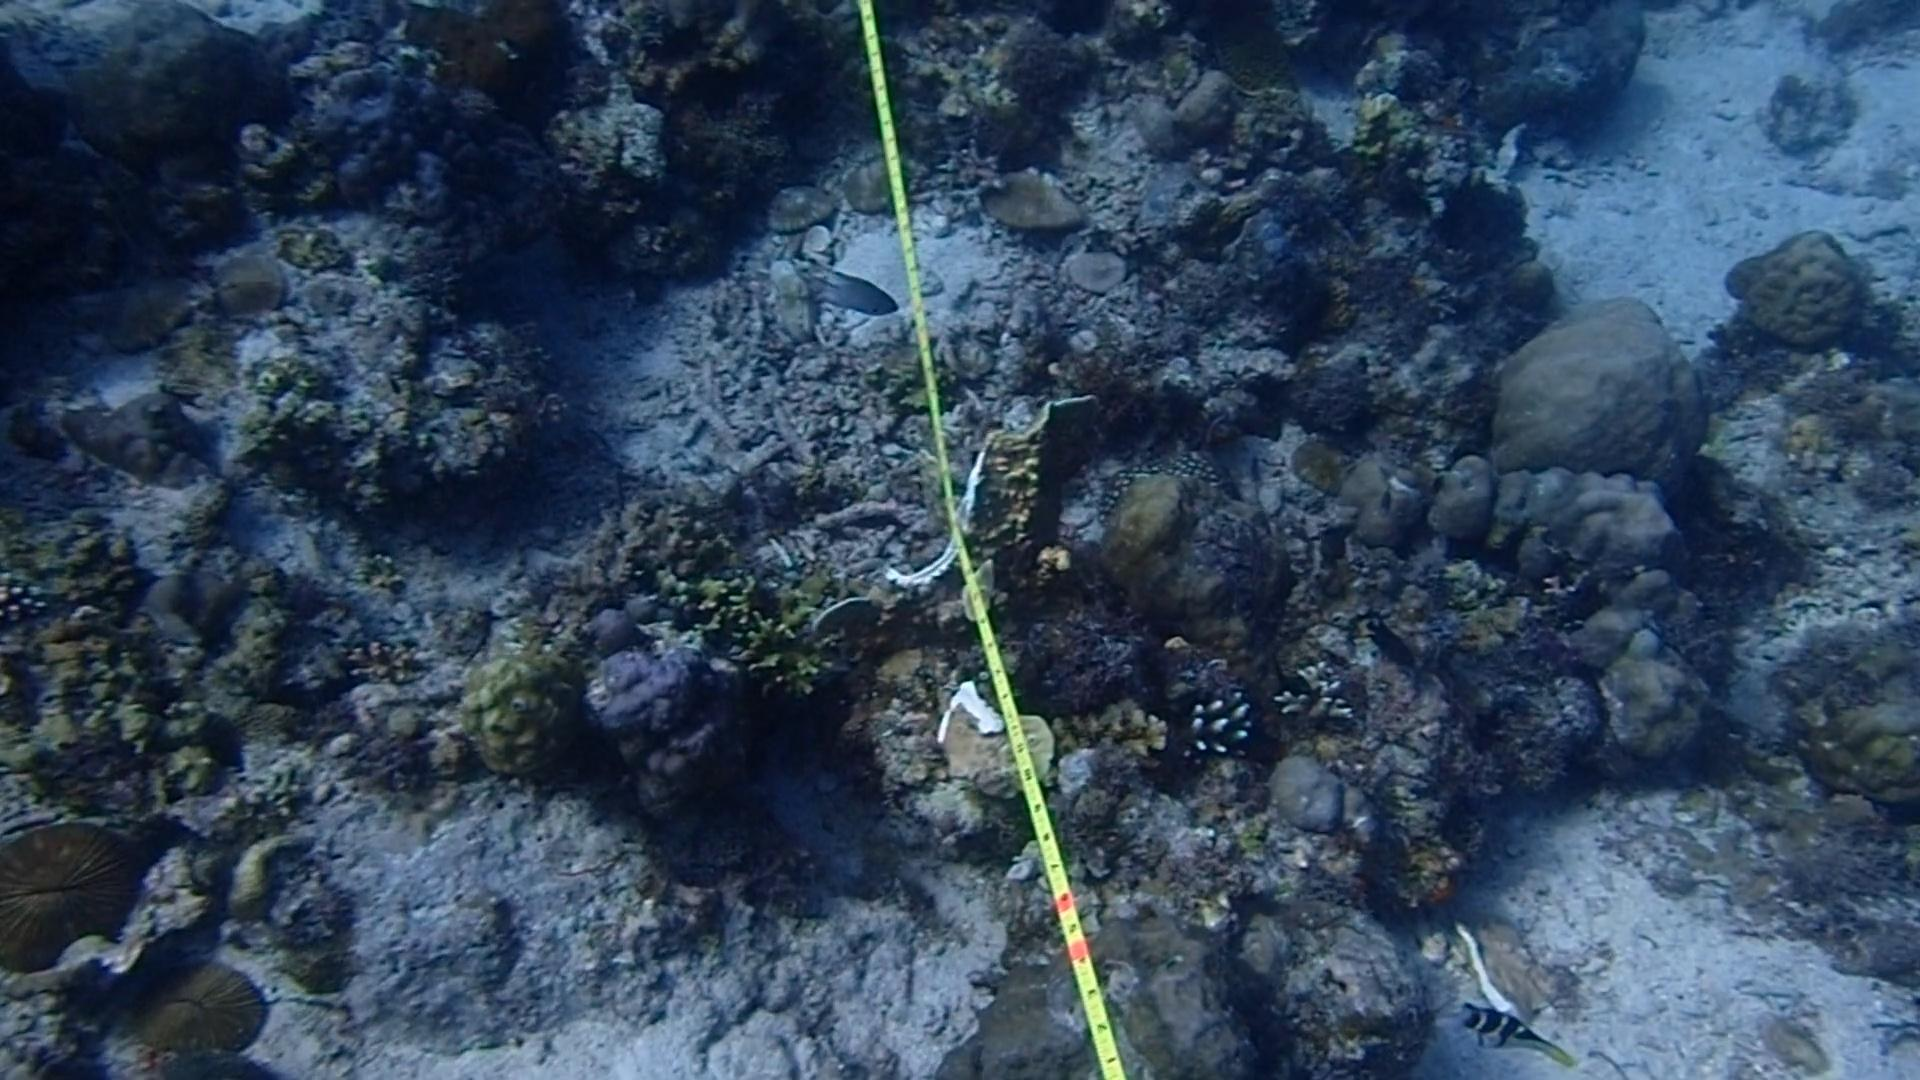Striped Fish: (1458, 993, 1568, 1069)
